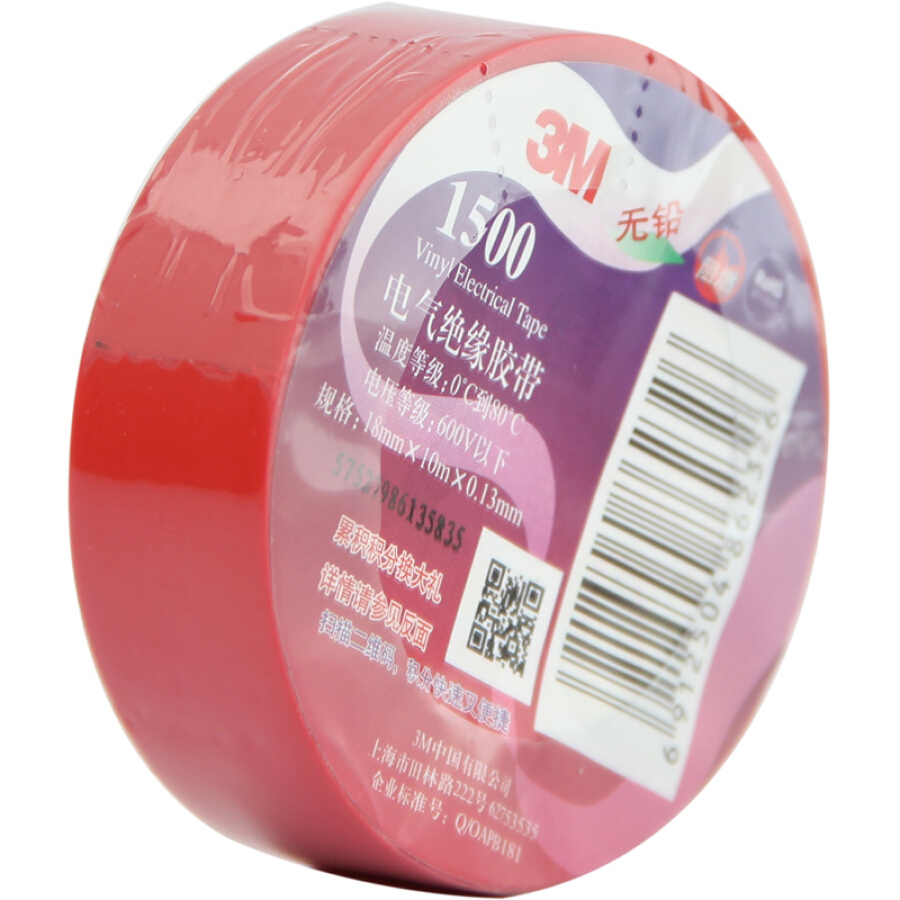3M: (520, 102, 617, 211)
